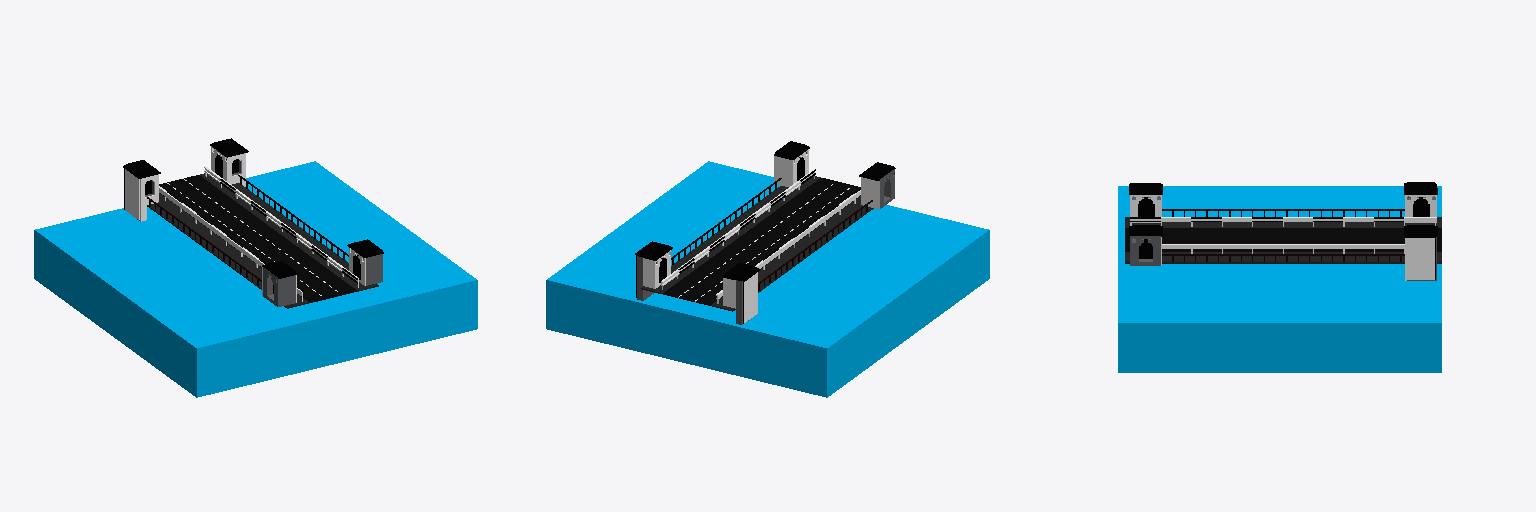
3 views of the same model, side by side, from view 1: azimuth 30°, elevation 25°; view 2: azimuth 150°, elevation 25°; view 3: azimuth 270°, elevation 25° (orthographic).
Parts seen in each view (by area): view 1: object 1; view 2: object 1; view 3: object 1.
Part boxes in pixels (bbox=[...]): object 1: bbox=[34, 138, 477, 397]; object 1: bbox=[546, 141, 989, 397]; object 1: bbox=[1118, 182, 1441, 372].
Bounding box in the file's own units: 25.6 × 8.4 × 25.6.
1 materials, 1 textured.